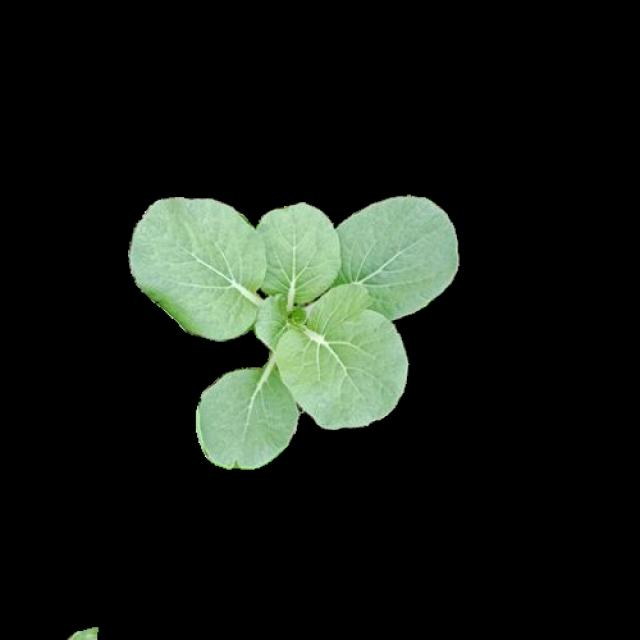healthy: (128, 192, 456, 466)
not-mature: (131, 194, 458, 468)
